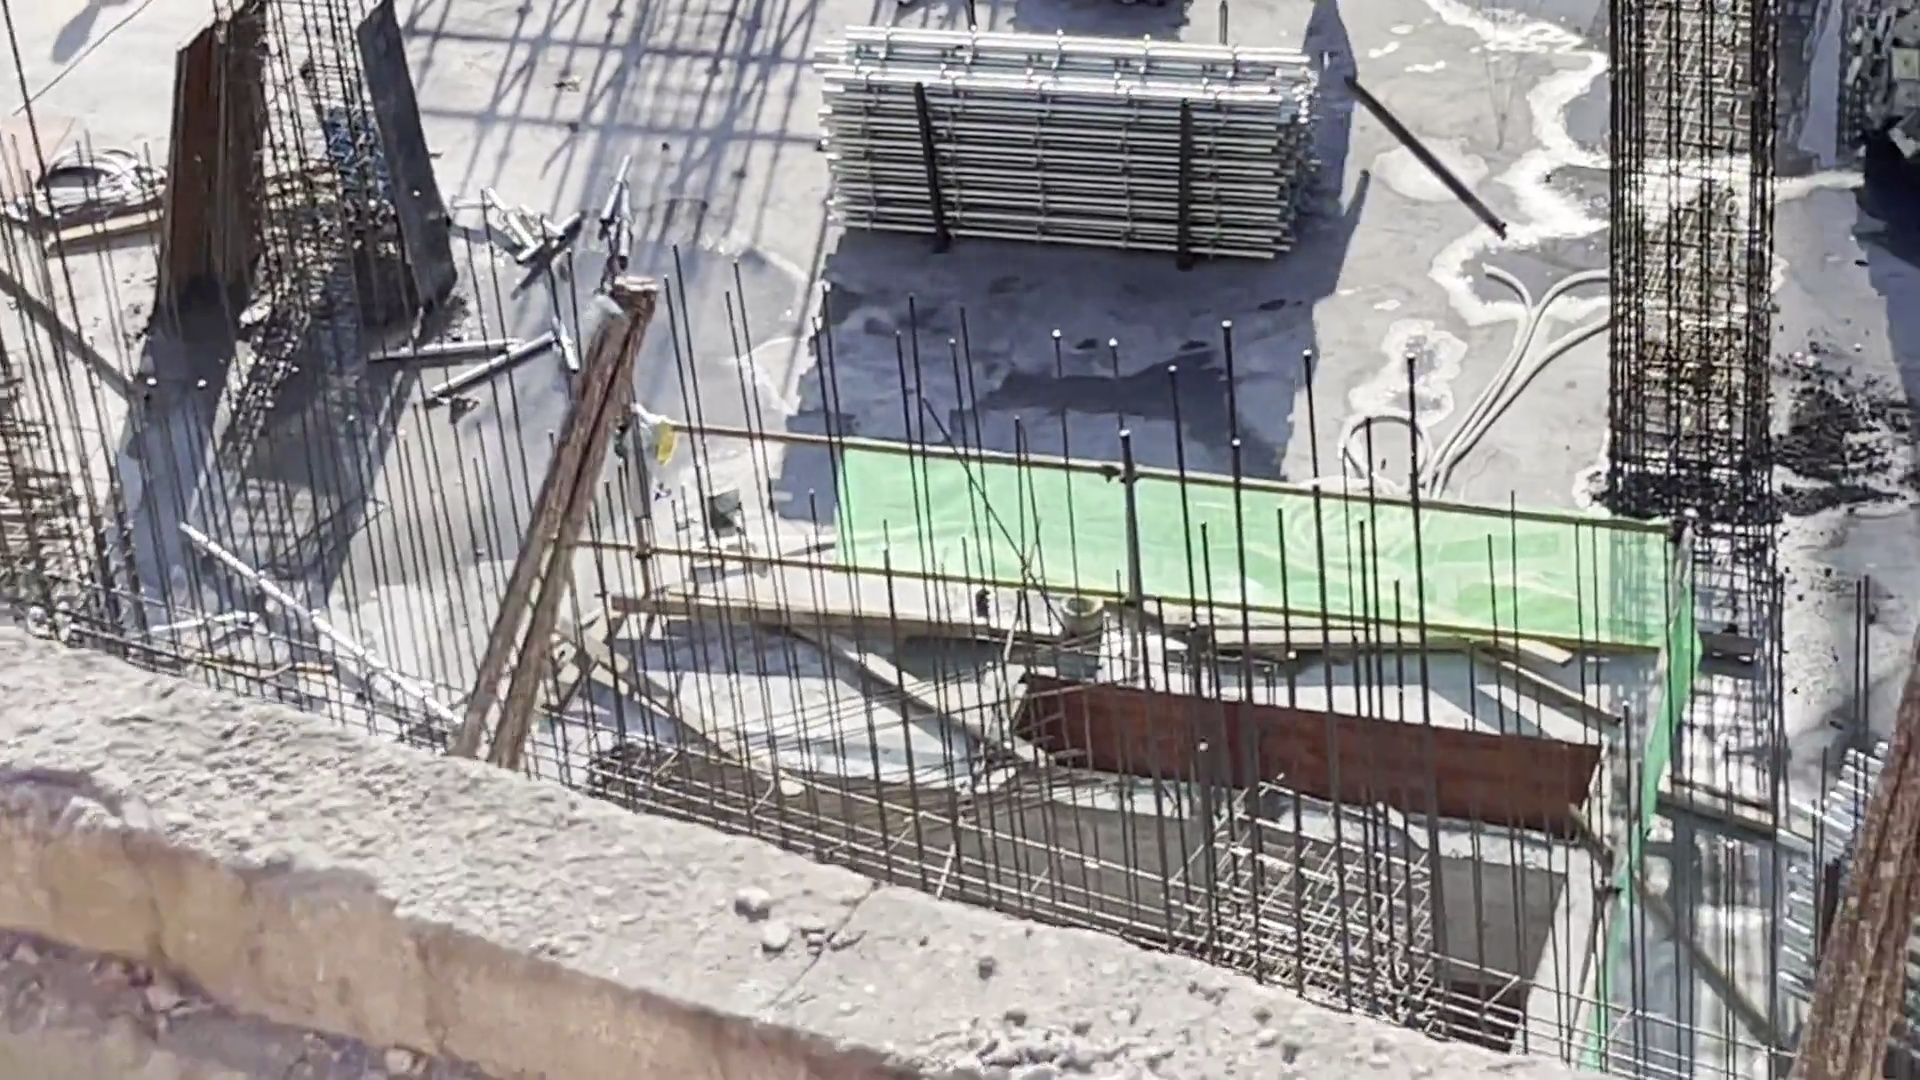scaffold: (806, 17, 1331, 265)
